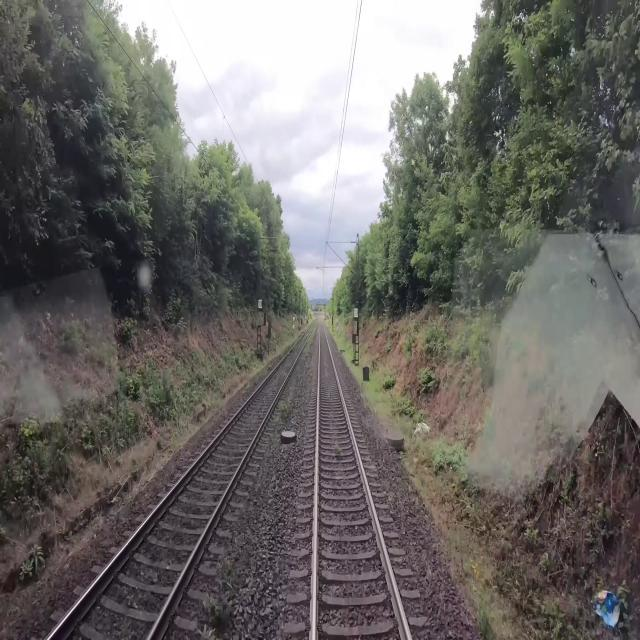Plant: (195, 557, 240, 639), (270, 394, 298, 451), (332, 441, 343, 456)
